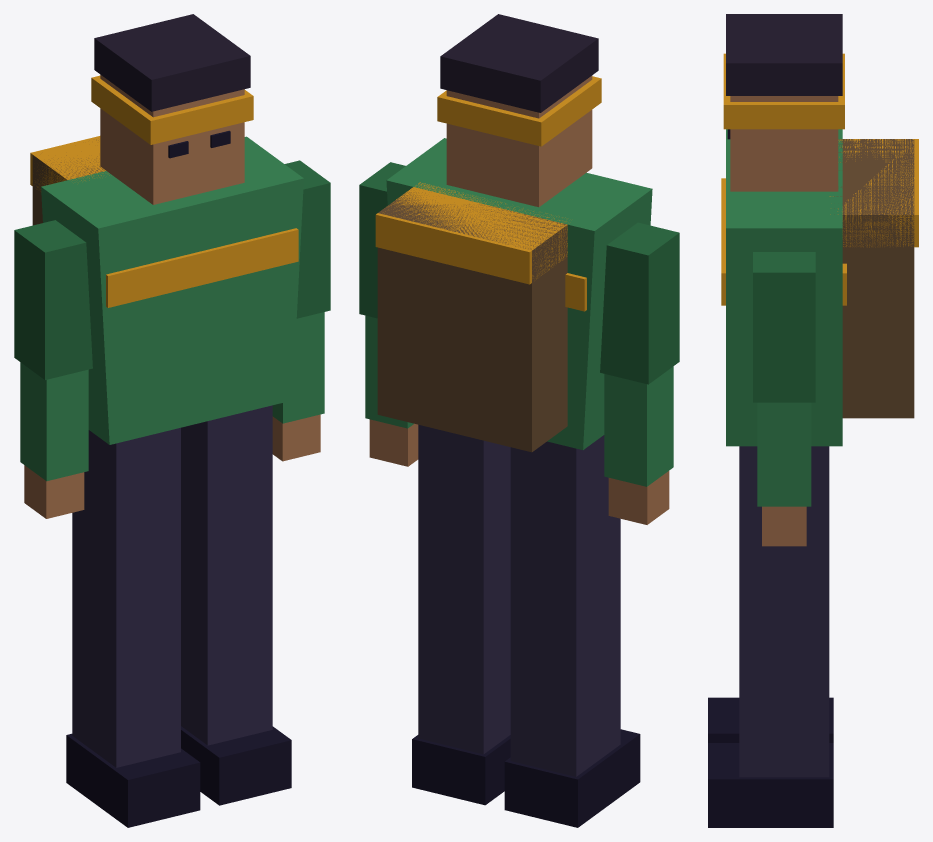
Rendered from survivor_kiran.glb.
3 renders of one model, left to right at view 1: azimuth 30°, elevation 25°; view 2: azimuth 150°, elevation 25°; view 3: azimuth 270°, elevation 25°, orthographic. The views are drawn at different scales.
Parts seen in each view (by area): view 1: torso, leg_R, leg_L, head, arm_R, arm_L; view 2: torso, leg_R, leg_L, head, arm_R, arm_L; view 3: torso, leg_L, head, arm_L, leg_R.
Part boxes in pixels (box(x1,y1,x2,y2)): torso: box(30, 136, 303, 444); leg_R: box(66, 427, 200, 827); leg_L: box(181, 405, 291, 805); head: box(91, 14, 253, 204); arm_R: box(14, 220, 92, 518); arm_L: box(272, 160, 330, 461); torso: box(375, 138, 652, 452); leg_R: box(504, 435, 640, 827); leg_L: box(412, 424, 510, 805); head: box(437, 14, 601, 207); arm_R: box(600, 222, 679, 524); arm_L: box(359, 162, 418, 466); torso: box(721, 129, 918, 446); leg_L: box(708, 446, 833, 827); head: box(723, 14, 844, 191); arm_L: box(753, 252, 815, 546); leg_R: box(708, 697, 833, 742).
Bounding box in the file's own units: 0.75 × 1.84 × 0.47.
